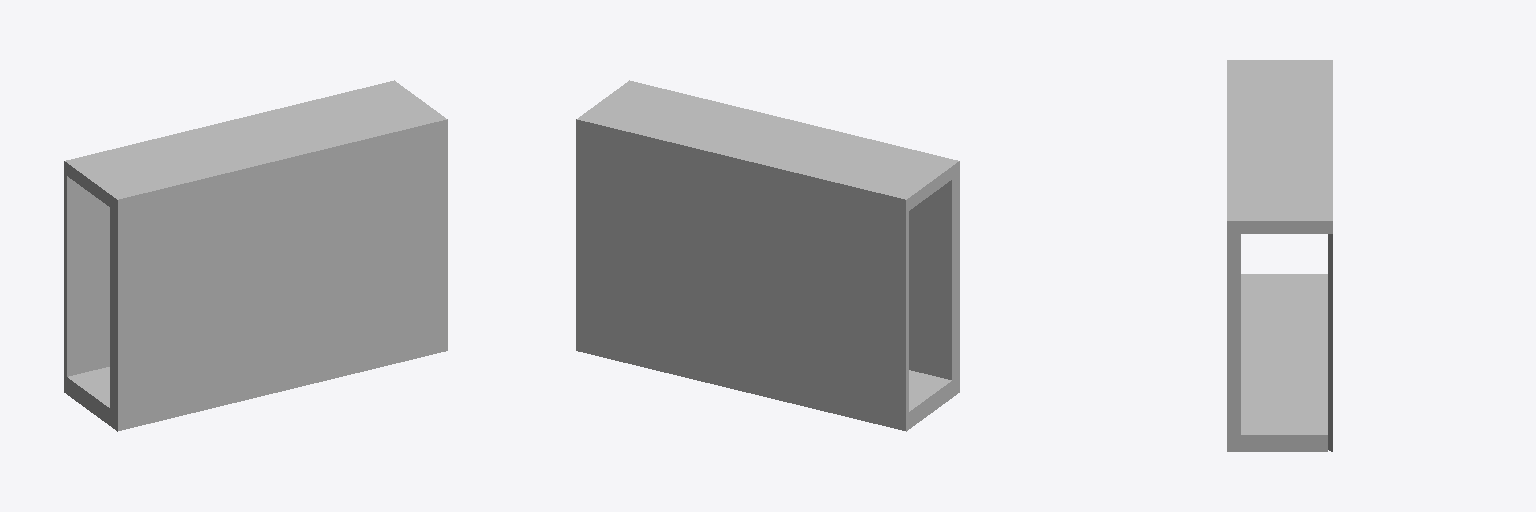
File: home-compileout.obj
3 views of the same model, side by side, from view 1: azimuth 30°, elevation 25°; view 2: azimuth 150°, elevation 25°; view 3: azimuth 270°, elevation 25° (orthographic).
Visible parts, largest first — view 1: rdmobj00; view 2: rdmobj00; view 3: rdmobj00.
Boxes of the visible parts, <box> form: rdmobj00: <box>64,80,447,431</box>; rdmobj00: <box>576,80,959,431</box>; rdmobj00: <box>1227,60,1332,451</box>.
Bounding box in the file's own units: 1264 × 848 × 352.